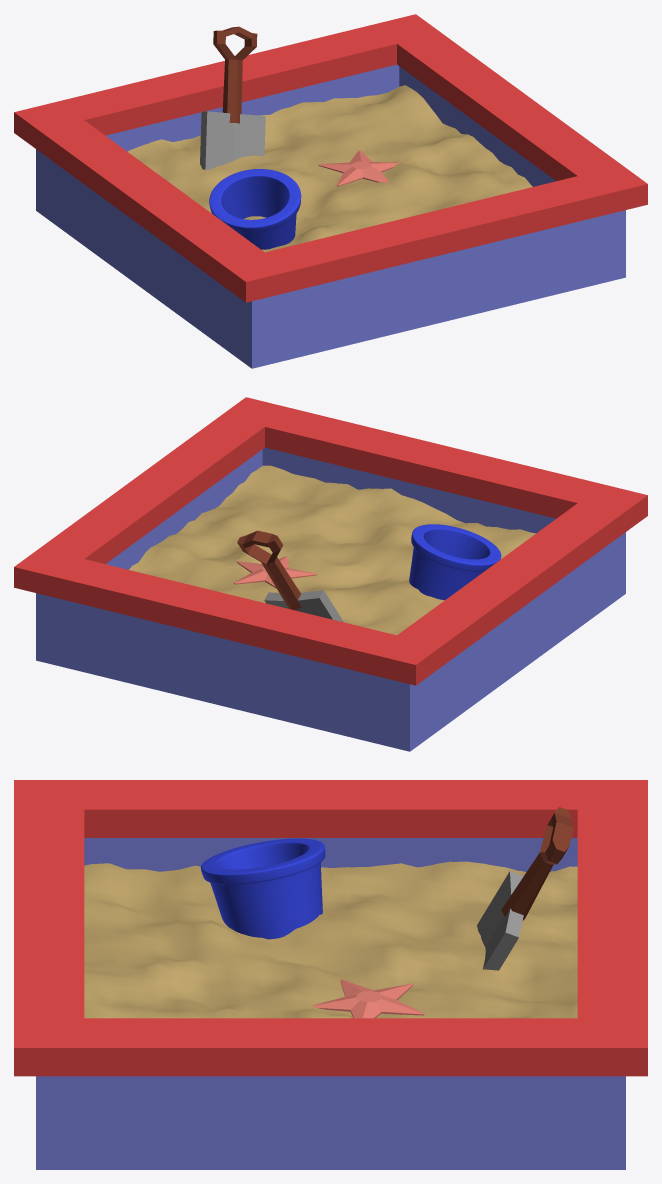
File: zandbak.fbx
The picture shows the model from 3 angles, top to bottom: view 1: azimuth 30°, elevation 25°; view 2: azimuth 150°, elevation 25°; view 3: azimuth 270°, elevation 25°; orthographic projection. The views are drawn at different scales.
Visible parts, largest first — view 1: rim, box, sand, bucket, shovel, handle, starfish; view 2: rim, box, sand, bucket, handle, shovel, starfish; view 3: rim, box, sand, bucket, handle, shovel, starfish.
Part boxes in pixels (box(x1,y1,x2,y2)): rim: box(14, 14, 647, 302); box: box(36, 64, 625, 368); sand: box(127, 85, 532, 252); bucket: box(209, 169, 301, 249); shovel: box(200, 111, 265, 169); handle: box(213, 26, 257, 123); starfish: box(318, 150, 403, 186); rim: box(14, 397, 647, 685); box: box(36, 447, 625, 751); sand: box(129, 465, 535, 635); bucket: box(409, 524, 501, 600); handle: box(237, 530, 301, 610); shovel: box(264, 590, 343, 622); starfish: box(234, 556, 316, 588); rim: box(14, 780, 647, 1076); box: box(36, 838, 625, 1169); sand: box(84, 861, 577, 1018); bucket: box(200, 838, 325, 939); handle: box(501, 807, 573, 920); shovel: box(477, 871, 523, 970); starfish: box(313, 979, 424, 1018).
Bounding box in the file's own units: 215 × 81.66 × 215.
